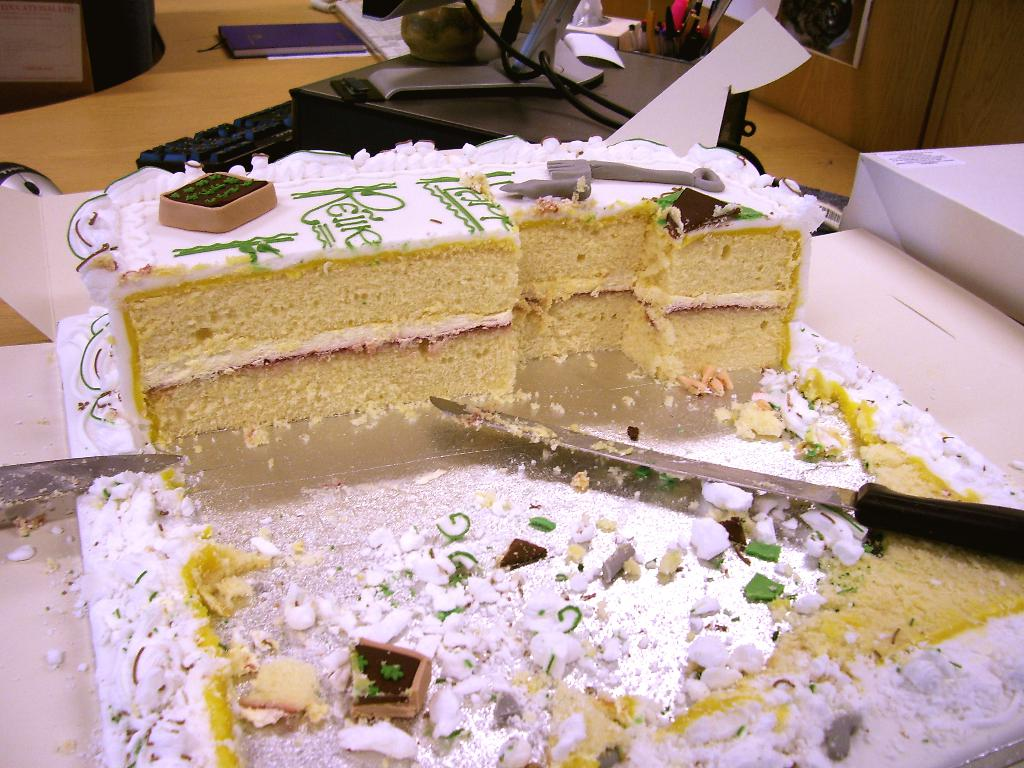cake: (59, 134, 829, 455)
